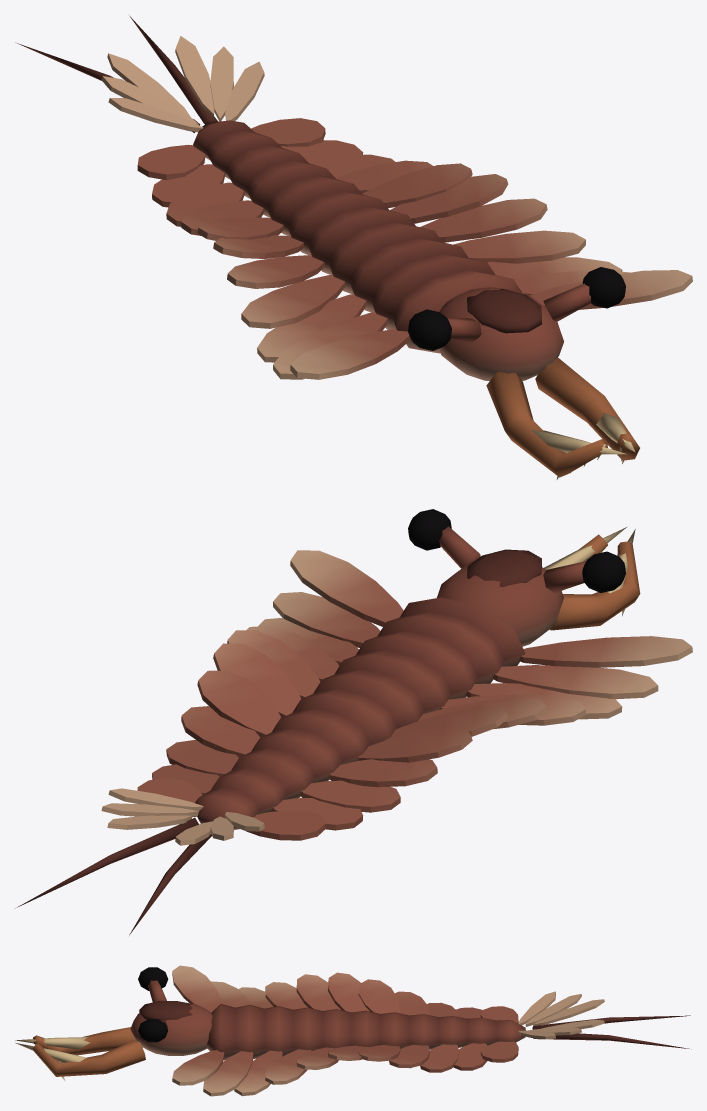
Rendered from Amplectobelua.fbx.
3 views of the same model, one above another, from view 1: azimuth 30°, elevation 25°; view 2: azimuth 150°, elevation 25°; view 3: azimuth 270°, elevation 25° (orthographic). The views are drawn at different scales.
Parts seen in each view (by area): view 1: Amplectobelua; view 2: Amplectobelua; view 3: Amplectobelua.
Boxes of the visible parts, x1=… form: Amplectobelua: x1=15, y1=15, x2=692, y2=479; Amplectobelua: x1=15, y1=509, x2=692, y2=935; Amplectobelua: x1=15, y1=965, x2=691, y2=1096.
Size of the model in its own units: 0.7278 by 0.227 by 1.79.
